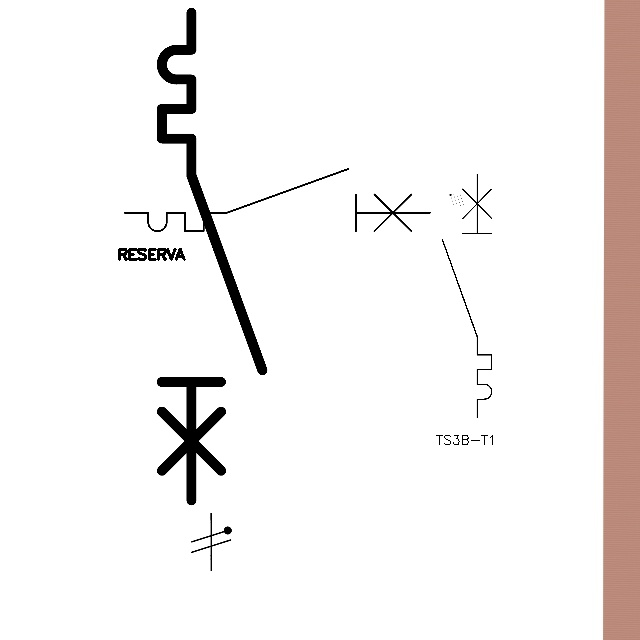interruptor_termomagnetico: (149, 0, 274, 513), (117, 161, 438, 239), (436, 168, 498, 424)
